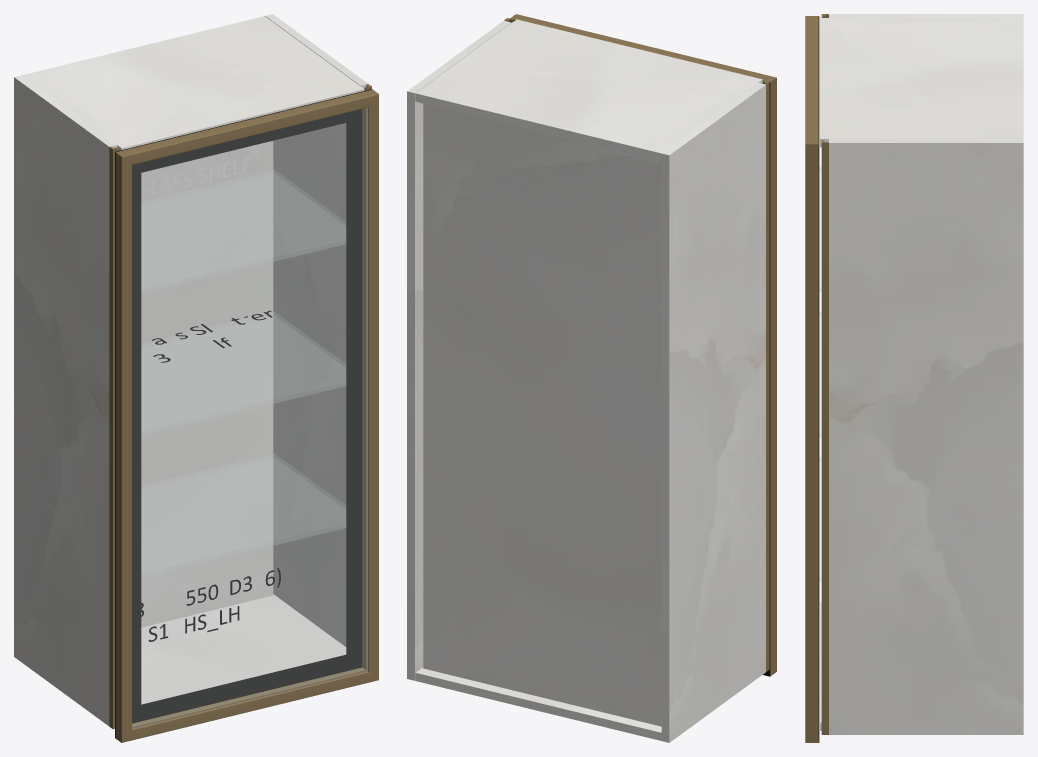
File: WC-SH-NHX-GL-3SG-LHS-XXX-500-1085-336-15.glb
3 views of the same model, side by side, from view 1: azimuth 30°, elevation 25°; view 2: azimuth 150°, elevation 25°; view 3: azimuth 270°, elevation 25° (orthographic). The views are drawn at different scales.
Parts seen in each view (by area): view 1: Object_node_10, TP_node_2, TP_node_0, TP_node_1, Neon 22 Profile ALU PROF NEON 20 L21XH22.5MM 3MTR S2/405 SEC (×4), TP, Object_node_12, Object_node_1, Object_node_7, Object_node_4, TP_node, Object_node_14 (+1 smaller); view 2: TP_node_2, TP_node_0, TP, TP_node_1, Neon 22 Profile ALU PROF NEON 20 L21XH22.5MM 3MTR S2/405 SEC (×2), TP_node, Object_node_14, Object_node_12; view 3: TP_node_1, TP, Neon 22 Profile ALU PROF NEON 20 L21XH22.5MM 3MTR S2/405 SEC (×2), Object_node_20, Object_node_12, TP_node_0, Object_node_1, Object_node_4, Object_node_7.
Part boxes in pixels (<box>): Object_node_10: <box>132,108,367,728</box>; TP_node_2: <box>141,141,273,627</box>; TP_node_0: <box>14,75,117,726</box>; TP_node_1: <box>265,14,367,646</box>; Neon 22 Profile ALU PROF NEON 20 L21XH22.5MM 3MTR S2/405 SEC (×4): <box>115,89,378,742</box>; TP: <box>22,16,364,150</box>; Object_node_12: <box>115,89,372,738</box>; Object_node_1: <box>142,454,345,577</box>; Object_node_7: <box>142,170,345,293</box>; Object_node_4: <box>142,312,345,435</box>; TP_node: <box>141,594,346,704</box>; Object_node_14: <box>109,146,119,729</box>; TP_node_2: <box>423,103,661,726</box>; TP_node_0: <box>661,82,765,742</box>; TP: <box>415,19,762,161</box>; TP_node_1: <box>407,20,511,680</box>; Neon 22 Profile ALU PROF NEON 20 L21XH22.5MM 3MTR S2/405 SEC (×2): <box>510,14,776,676</box>; TP_node: <box>415,667,661,740</box>; Object_node_14: <box>762,80,769,671</box>; Object_node_12: <box>513,20,770,676</box>; TP_node_1: <box>829,139,1023,734</box>; TP: <box>820,18,1023,147</box>; Neon 22 Profile ALU PROF NEON 20 L21XH22.5MM 3MTR S2/405 SEC (×2): <box>805,16,818,742</box>; Object_node_20: <box>821,140,828,734</box>; Object_node_12: <box>818,16,819,742</box>; TP_node_0: <box>829,14,1023,17</box>; Object_node_1: <box>819,457,821,581</box>; Object_node_4: <box>819,312,821,436</box>; Object_node_7: <box>819,167,821,291</box>.
Size of what is drawn, in the model's own units: 0.5 by 1.09 by 0.358.
Materials: 6 (1 with a texture image).
